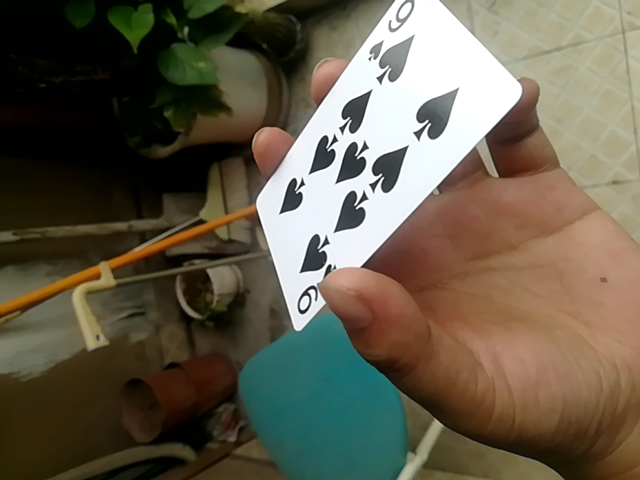ht 9: (250, 3, 527, 345)
